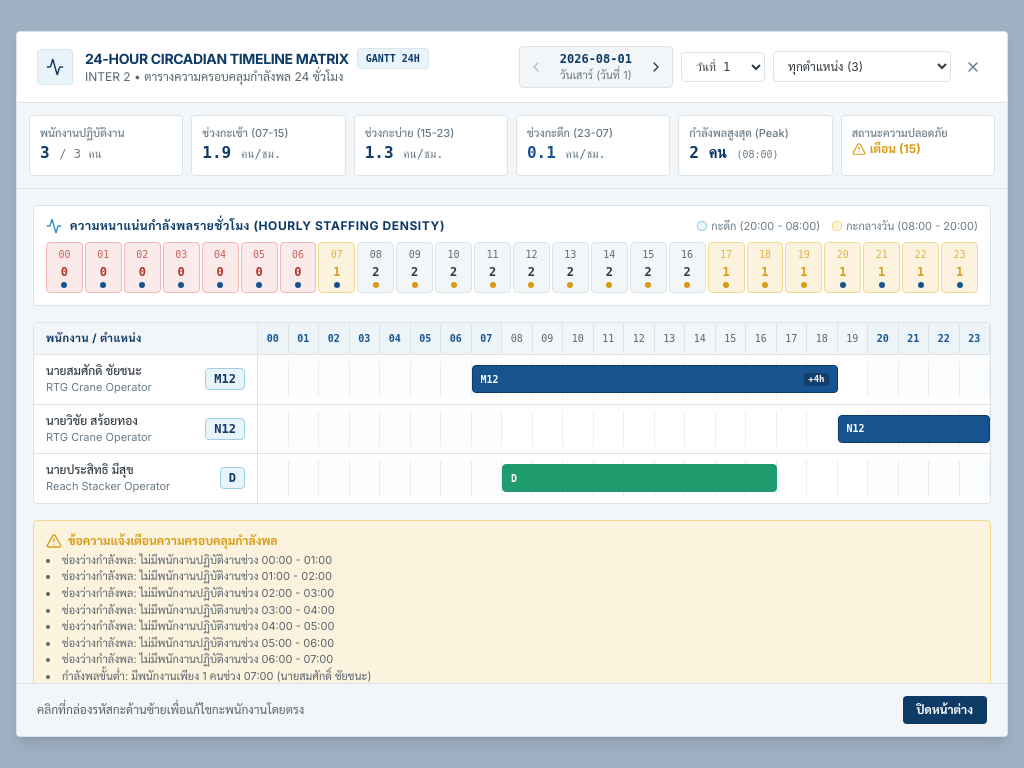
it: Tier 4: Circadian 24-Hour Timeline & Heatmap Workflows › T4.7.2: Modal day navigation changes selected calendar day
Expected: the text "2026-08-01" is shown, [560,51,632,67]
// Click Next Day button
Click the button named "Next Day" at (656, 67), box [644,55,668,79]
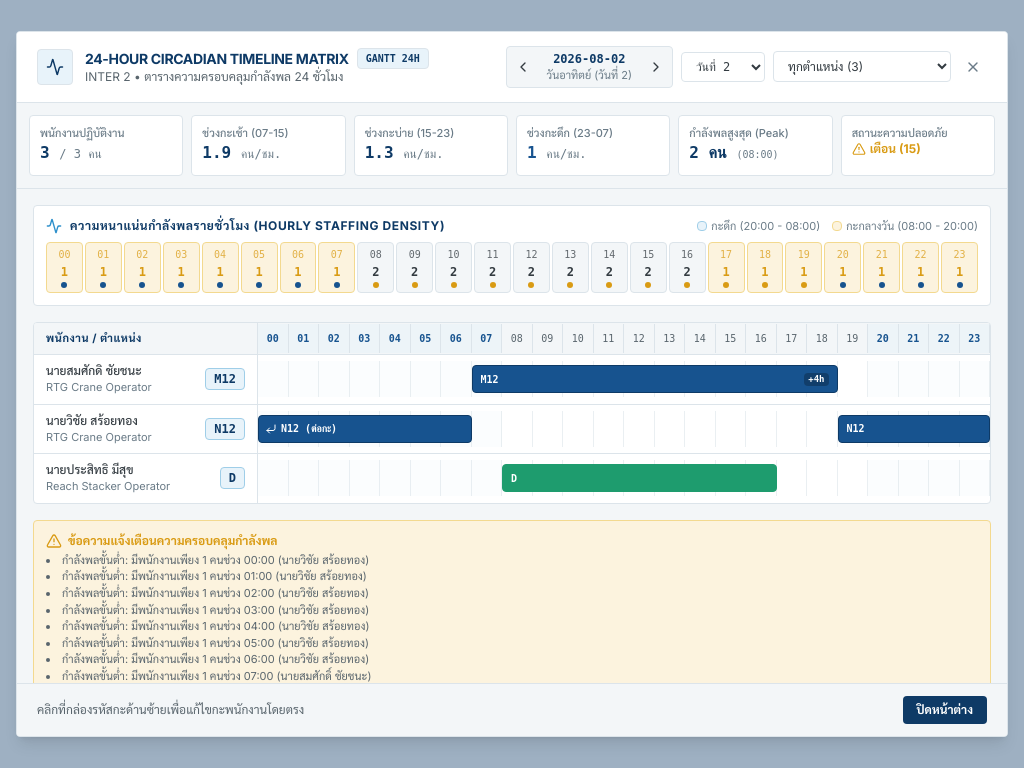
Now the text "2026-08-02" is shown, box [553,52,625,66]
